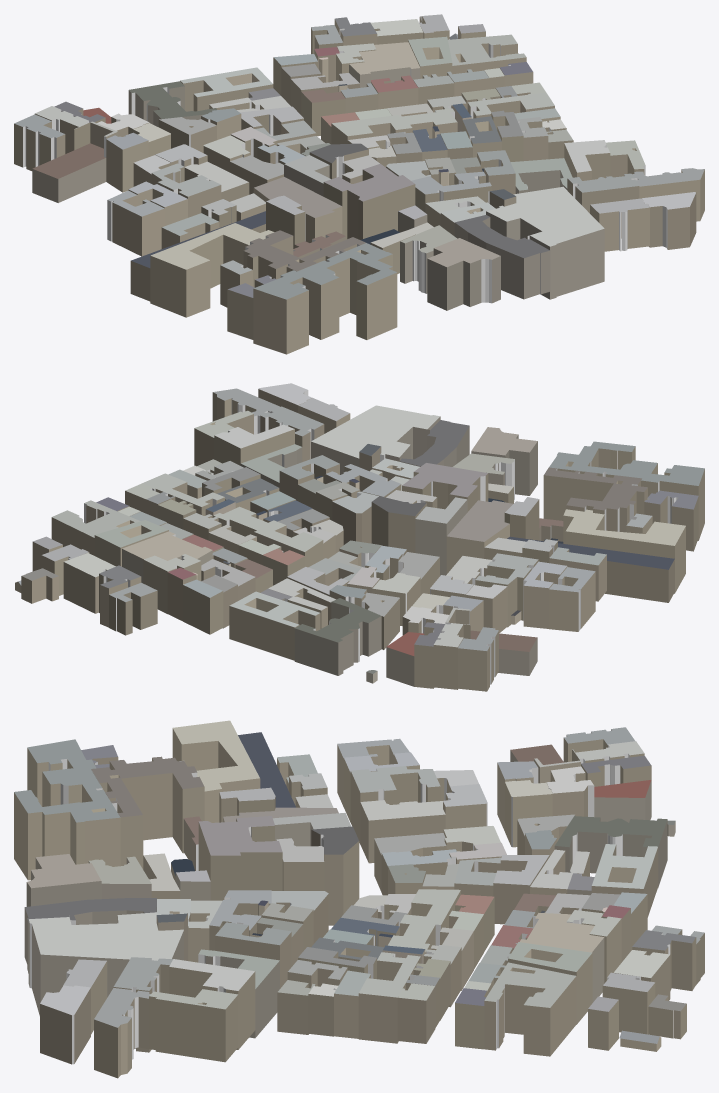
3 views of the same model, one above another, from view 1: azimuth 30°, elevation 25°; view 2: azimuth 150°, elevation 25°; view 3: azimuth 270°, elevation 25° (orthographic). The views are drawn at different scales.
Parts seen in each view (by area): view 1: tuile; view 2: tuile; view 3: tuile.
Part boxes in pixels (bbox=[...]): tuile: bbox=[14, 14, 704, 354]; tuile: bbox=[15, 383, 704, 691]; tuile: bbox=[14, 720, 704, 1078].
Bounding box in the file's own units: 296 × 42 × 282.
